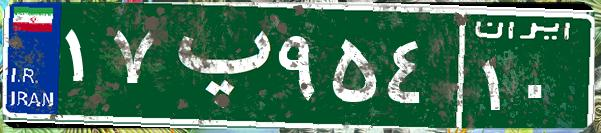0: (525, 38, 570, 115)
1: (57, 26, 110, 107), (475, 38, 525, 113)
4: (385, 28, 445, 110)
5: (330, 28, 385, 110)
7: (110, 28, 158, 105)
9: (273, 28, 330, 110)
پ: (158, 15, 273, 115)
